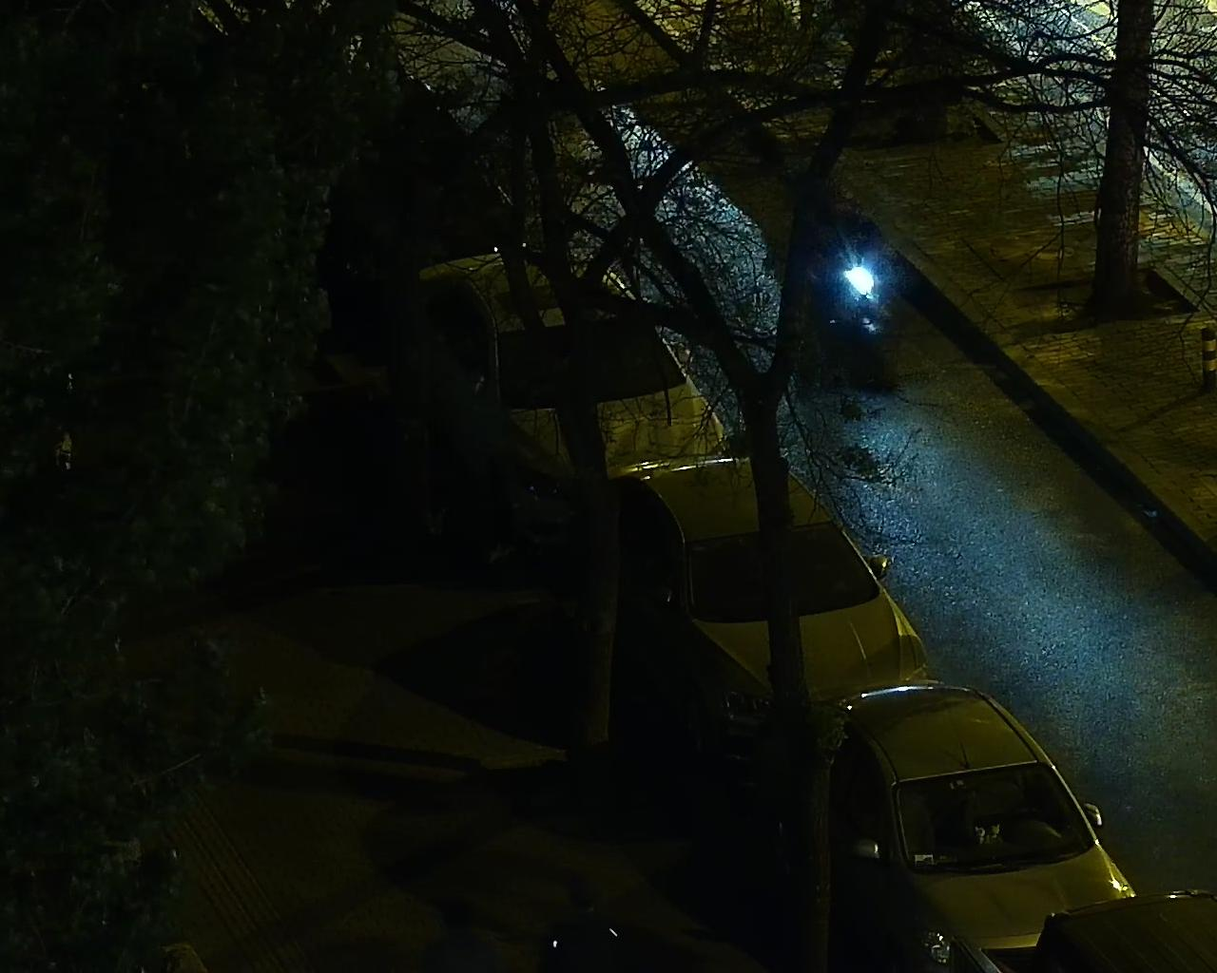person: (822, 191, 915, 366), (530, 867, 628, 973), (413, 892, 500, 973)
